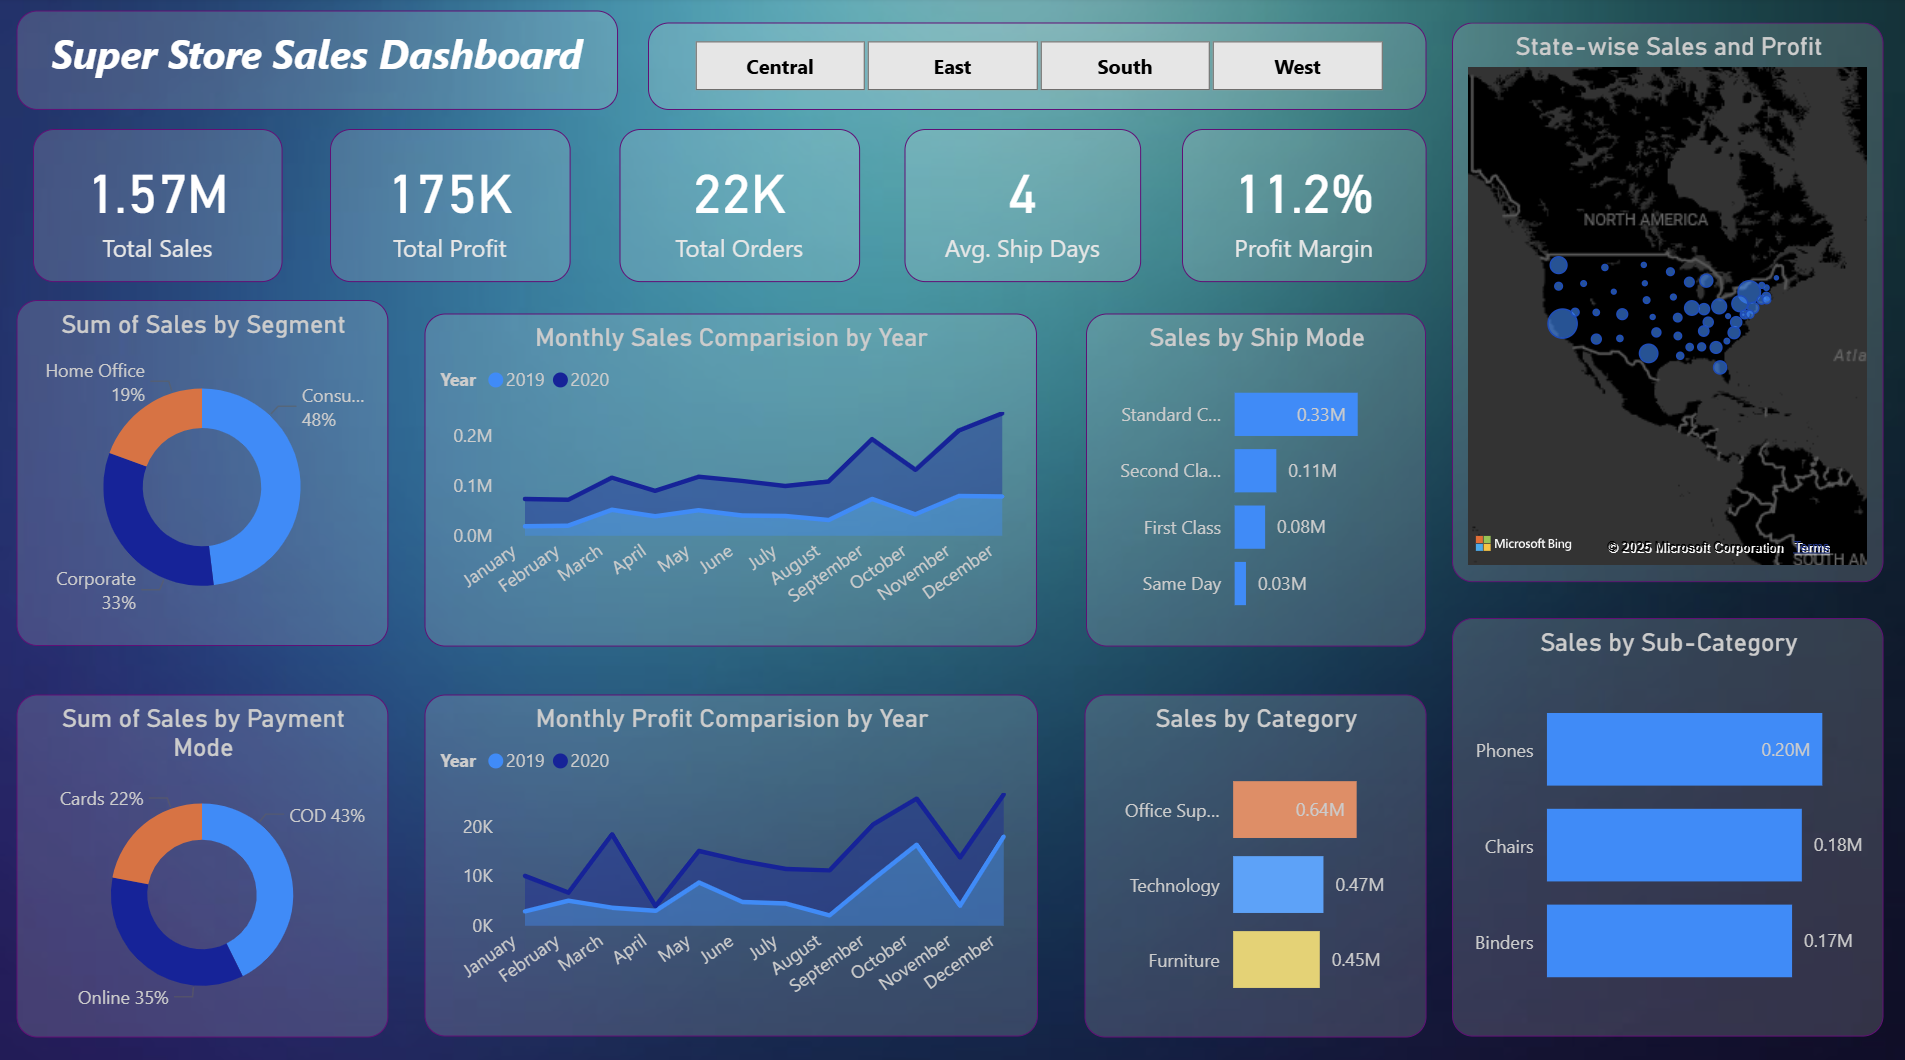

Layout of this report page (visuals, bound fields, positions):
{"tool":"powerbi","page":{"name":"Sales_Dashboard","canvas":[1280,720],"ordinal":0},"visuals":[{"type":"barChart","title":"Sales by Category","fields":{"Category":["SuperStore_Sales_Dataset.Category"],"Y":["Sum(SuperStore_Sales_Dataset.Sales)"]},"box":[727.2,467.7,229.3,230.3],"z":0},{"type":"barChart","title":"Sales by Sub-Category","fields":{"Y":["Sum(SuperStore_Sales_Dataset.Sales)"],"Category":["SuperStore_Sales_Dataset.Sub-Category"]},"box":[973.6,416.4,289.7,280.6],"z":1000},{"type":"barChart","title":"Sales by Ship Mode","fields":{"Y":["Sum(SuperStore_Sales_Dataset.Sales)"],"Category":["SuperStore_Sales_Dataset.Ship Mode"]},"box":[728.2,212.2,228.3,223.3],"z":2000},{"type":"stackedAreaChart","title":"Monthly Sales Comparision by Year","fields":{"Y":["Sum(SuperStore_Sales_Dataset.Sales)"],"Series":["SuperStore_Sales_Dataset.Order Date.Variation.Date Hierarchy.Year"],"Category":["SuperStore_Sales_Dataset.Order Date.Variation.Date Hierarchy.Month","SuperStore_Sales_Dataset.Order Date.Variation.Date Hierarchy.Day"]},"box":[284.6,212.2,410.4,223.3],"z":3000},{"type":"stackedAreaChart","title":"Monthly Profit Comparision by Year","fields":{"Series":["SuperStore_Sales_Dataset.Order Date.Variation.Date Hierarchy.Year"],"Category":["SuperStore_Sales_Dataset.Order Date.Variation.Date Hierarchy.Month","SuperStore_Sales_Dataset.Order Date.Variation.Date Hierarchy.Day"],"Y":["Sum(SuperStore_Sales_Dataset.Profit)"]},"box":[284.6,467.7,411.4,229.3],"z":4000},{"type":"map","title":"State-wise Sales and Profit","fields":{"Category":["SuperStore_Sales_Dataset.State"],"Size":["Sum(SuperStore_Sales_Dataset.Sales)"]},"box":[973.6,17.1,289.7,375.2],"z":5000},{"type":"donutChart","fields":{"Category":["SuperStore_Sales_Dataset.Segment"],"Y":["Sum(SuperStore_Sales_Dataset.Sales)"]},"box":[11.1,203.2,249.4,232.3],"z":6000},{"type":"donutChart","fields":{"Category":["SuperStore_Sales_Dataset.Payment Mode"],"Y":["Sum(SuperStore_Sales_Dataset.Sales)"]},"box":[11.1,467.7,249.4,230.3],"z":7000},{"type":"slicer","fields":{"Values":["SuperStore_Sales_Dataset.Region"]},"box":[434.5,17.1,522,58.3],"z":8000},{"type":"textbox","box":[11.1,9.1,403.3,66.4],"z":9000},{"type":"card","fields":{"Values":["Sum(SuperStore_Sales_Dataset.Sales)"]},"box":[22.5,88.8,167.5,102.5],"z":10000},{"type":"card","fields":{"Values":["Sum(SuperStore_Sales_Dataset.Profit)"]},"box":[221.2,88.8,161.2,102.5],"z":11000},{"type":"card","fields":{"Values":["Sum(SuperStore_Sales_Dataset.Quantity)"]},"box":[415,88.8,161.2,102.5],"z":12000},{"type":"card","fields":{"Values":["Avg(SuperStore_Sales_Dataset.AvgDeliveryDays)"]},"box":[606.2,88.8,158.8,102.5],"z":13000},{"type":"card","fields":{"Values":["SuperStore_Sales_Dataset.Profit Margin"]},"box":[792.5,88.8,163.8,102.5],"z":14000}]}

Visuals, with their boxes in screenshot pixels (x1, y1, x2, y2), scaled from the page's 1280x720 canvas onto the 1905x1060 screenshot:
"Sales by Category" barChart: Rect(1082, 689, 1424, 1028)
"Sales by Sub-Category" barChart: Rect(1449, 613, 1880, 1026)
"Sales by Ship Mode" barChart: Rect(1084, 312, 1424, 641)
"Monthly Sales Comparision by Year" stackedAreaChart: Rect(424, 312, 1034, 641)
"Monthly Profit Comparision by Year" stackedAreaChart: Rect(424, 689, 1036, 1026)
"State-wise Sales and Profit" map: Rect(1449, 25, 1880, 578)
donutChart - SuperStore_Sales_Dataset.Segment x Sum(SuperStore_Sales_Dataset.Sales): Rect(17, 299, 388, 641)
donutChart - SuperStore_Sales_Dataset.Payment Mode x Sum(SuperStore_Sales_Dataset.Sales): Rect(17, 689, 388, 1028)
slicer - SuperStore_Sales_Dataset.Region: Rect(647, 25, 1424, 111)
textbox: Rect(17, 13, 617, 111)
card - Sum(SuperStore_Sales_Dataset.Sales): Rect(33, 131, 283, 282)
card - Sum(SuperStore_Sales_Dataset.Profit): Rect(329, 131, 569, 282)
card - Sum(SuperStore_Sales_Dataset.Quantity): Rect(618, 131, 858, 282)
card - Avg(SuperStore_Sales_Dataset.AvgDeliveryDays): Rect(902, 131, 1139, 282)
card - SuperStore_Sales_Dataset.Profit Margin: Rect(1179, 131, 1423, 282)
